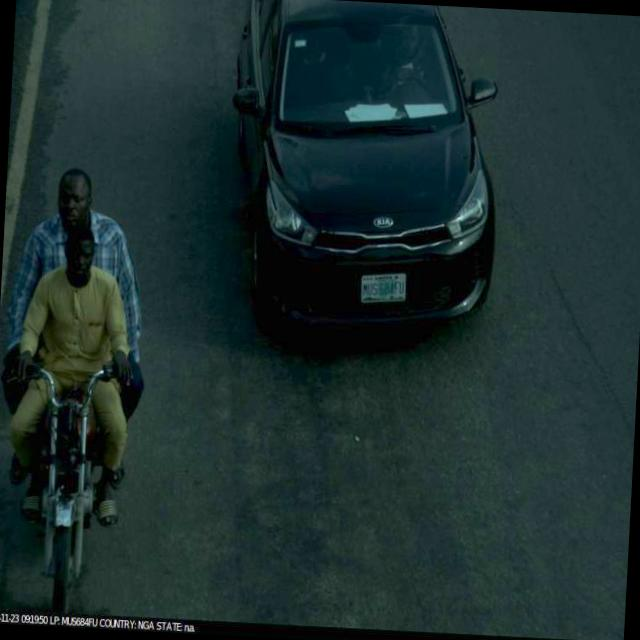person_without_seatbelt: (366, 22, 434, 108)
